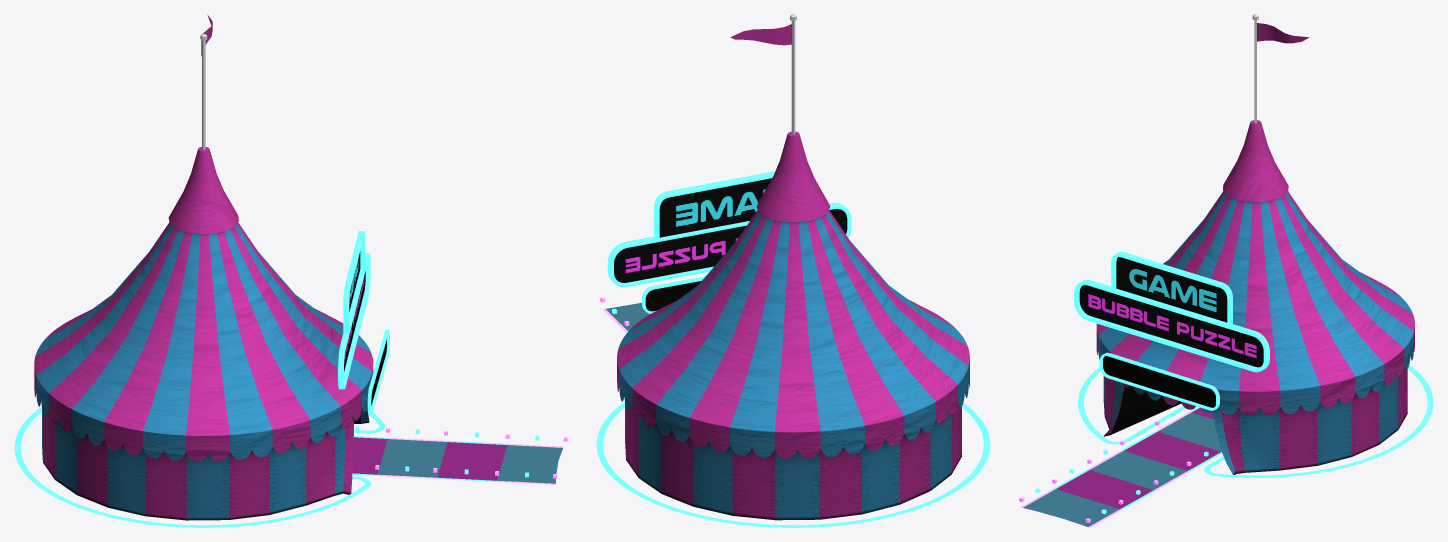
File: tentGame2.glb
The picture shows the model from 3 angles, left to right: view 1: azimuth 30°, elevation 25°; view 2: azimuth 150°, elevation 25°; view 3: azimuth 270°, elevation 25°; orthographic projection. The views are drawn at different scales.
Visible parts, largest first — view 1: tentGame2, Plane.022, Plane.002, Plane.003, Plane.034; view 2: tentGame2, Plane.004, Plane.005, Plane.002, Plane.003, Plane.035, Plane.022; view 3: tentGame2, Plane.022, Plane.004, Plane.005, Plane.002, Plane.035, Plane.003, Plane.034.
Boxes of the visible parts, box(x1,y1,x2,y2) form: tentGame2: box(14, 14, 385, 527); Plane.022: box(352, 426, 567, 484); Plane.002: box(338, 253, 370, 389); Plane.003: box(343, 231, 365, 333); Plane.034: box(367, 330, 389, 414); tentGame2: box(596, 14, 990, 527); Plane.004: box(614, 209, 847, 282); Plane.005: box(659, 178, 771, 237); Plane.002: box(607, 203, 851, 287); Plane.003: box(654, 171, 775, 238); Plane.035: box(645, 281, 701, 311); Plane.022: box(600, 297, 649, 333); tentGame2: box(1078, 14, 1433, 477); Plane.022: box(1019, 407, 1222, 527); Plane.004: box(1079, 285, 1263, 367); Plane.005: box(1116, 257, 1227, 322); Plane.002: box(1074, 279, 1269, 372); Plane.035: box(1103, 356, 1215, 407); Plane.003: box(1111, 251, 1232, 325); Plane.034: box(1099, 352, 1219, 410).
Bounding box in the file's own units: 1.77 × 1.62 × 1.54.
9 materials, 3 textured.
